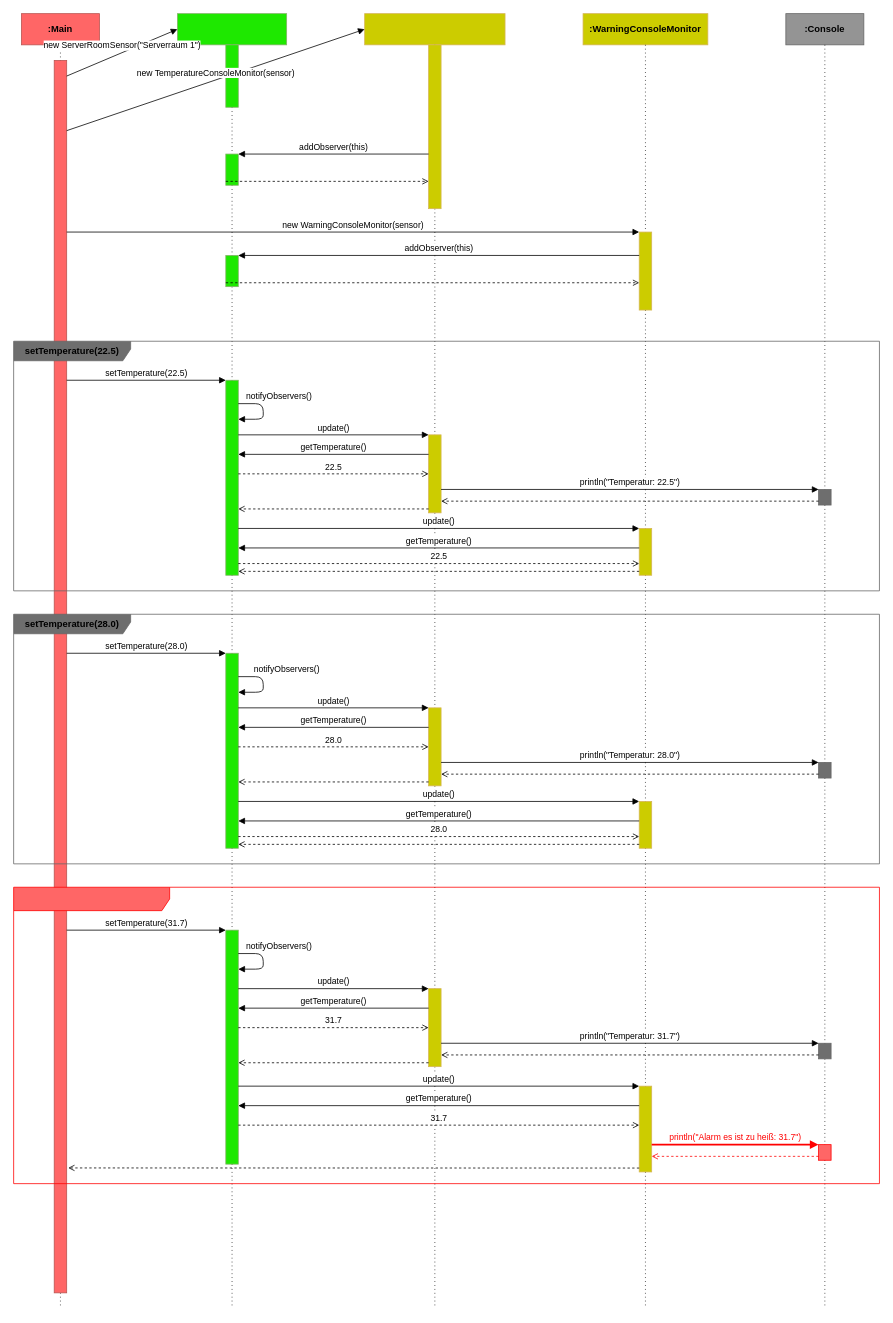
The diagram is 893 pixels wide and 1323 high, and some of its shapes have lost their labels. Here are the shapes that lost their labels. From the top down, the box of each, then its label:
(177, 13, 287, 45): :ServerRoomSensor
(364, 13, 505, 45): :TemperatureConsoleMonitor
(13, 886, 879, 1184): setTemperature(31.7) - ALARM!
